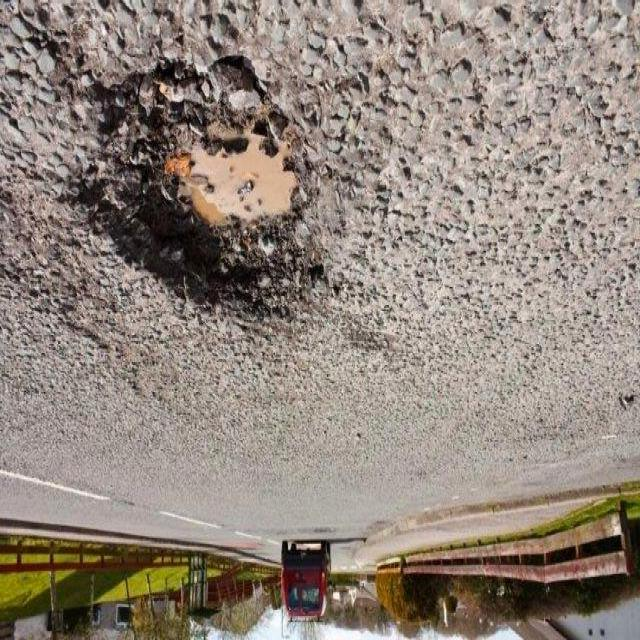lubang: (95, 57, 333, 316)
